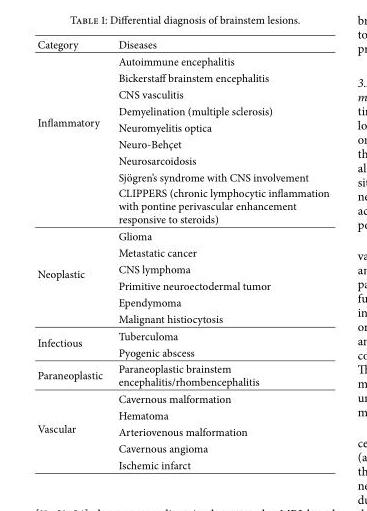table: (36, 36, 328, 472)
table column: (109, 36, 328, 472), (36, 36, 109, 472)
table column header: (36, 36, 328, 52)
table row: (36, 184, 328, 227), (36, 360, 328, 389), (36, 52, 328, 69), (36, 85, 328, 102), (36, 118, 328, 135), (36, 135, 328, 152), (36, 243, 328, 260), (36, 260, 328, 277), (36, 293, 328, 310), (36, 310, 328, 327), (36, 343, 328, 360), (36, 389, 328, 406), (36, 406, 328, 423), (36, 439, 328, 456), (36, 36, 328, 52), (36, 69, 328, 85), (36, 102, 328, 118), (36, 152, 328, 168), (36, 168, 328, 184), (36, 227, 328, 243), (36, 277, 328, 293), (36, 327, 328, 343), (36, 423, 328, 439), (36, 456, 328, 472)
table spanning cell: (36, 52, 109, 227), (36, 227, 109, 327), (36, 389, 109, 472), (36, 327, 109, 360)
